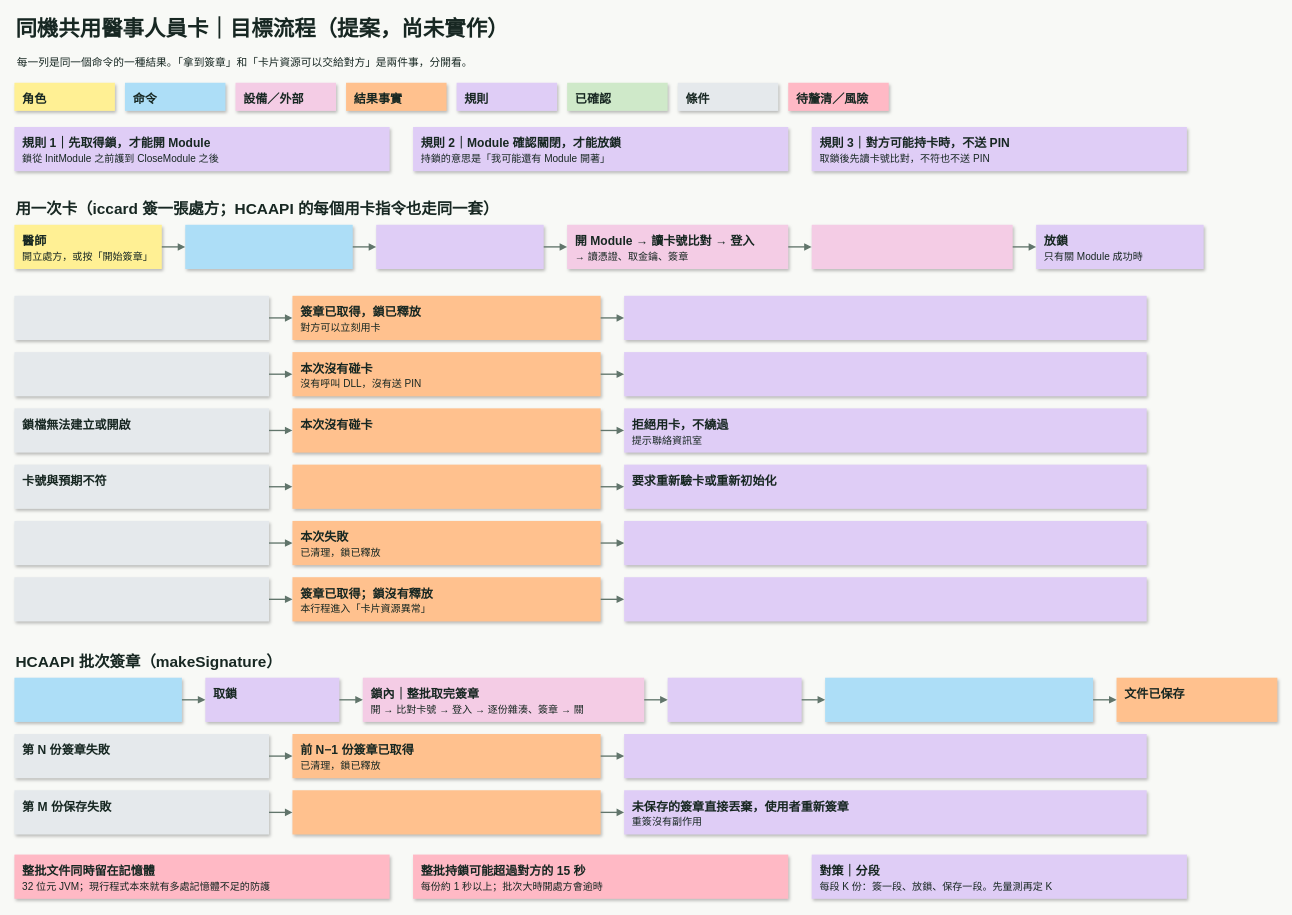
Some shapes in this 1292 by 915 pixel diagram are drawn without their labels. The centre of each missing label's shape, as x and y in pixels:
15 秒內等不到鎖: [142,375]
DLL 回錯誤碼: [142,544]
makeSignature 先確認初始化狀態還在: [98,700]
一切正常: [142,318]
前 M−1 份已保存 其餘簽章只在記憶體: [446,813]
前 N−1 份照常保存；第 N 份起回報失敗 結果與現在逐份處理相同: [885,757]
取鎖 最多等 15 秒: [460,247]
回傳簽章: [885,318]
回報「卡片使用中」 顯示佔用者；由使用者重試，程式不自動重試: [885,375]
回報錯誤碼 PIN 類錯誤（9039、9041、9043）不重試: [885,544]
放鎖: [735,700]
沒有送出 PIN 已清理，鎖已釋放: [446,487]
用一次卡 由使用者操作同步觸發: [269,247]
簽章已取得，但關 Module 失敗 重試三次仍失敗: [142,600]
簽章照常回傳，不重簽 下次用卡先再試關閉；仍失敗就提示重啟程式。對方逾時並看到佔用者: [885,600]
鎖外｜逐份保存 時戳、組 XML 上傳、確認、回寫資料庫: [959,700]
關 Session → 關 Module 兩個都做，都檢查回傳碼: [912,247]
